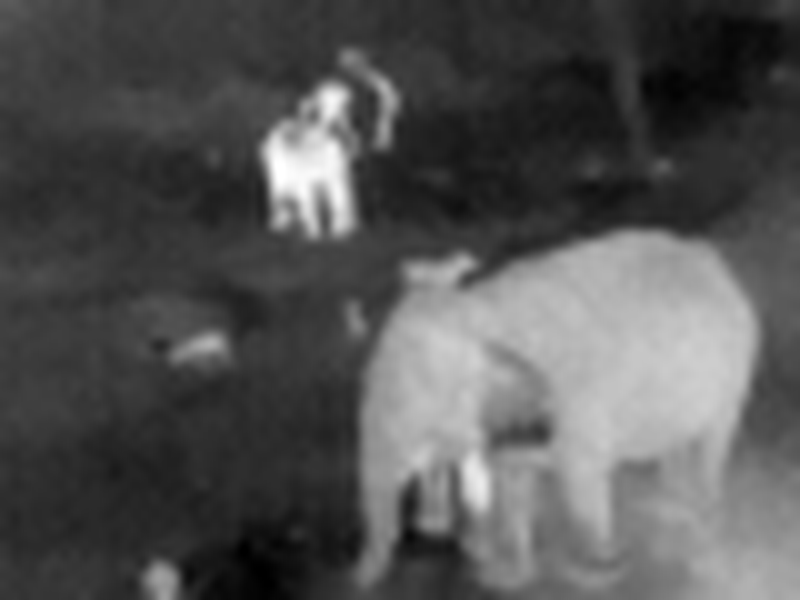elephant: (324, 253, 800, 586), (252, 77, 381, 232)
